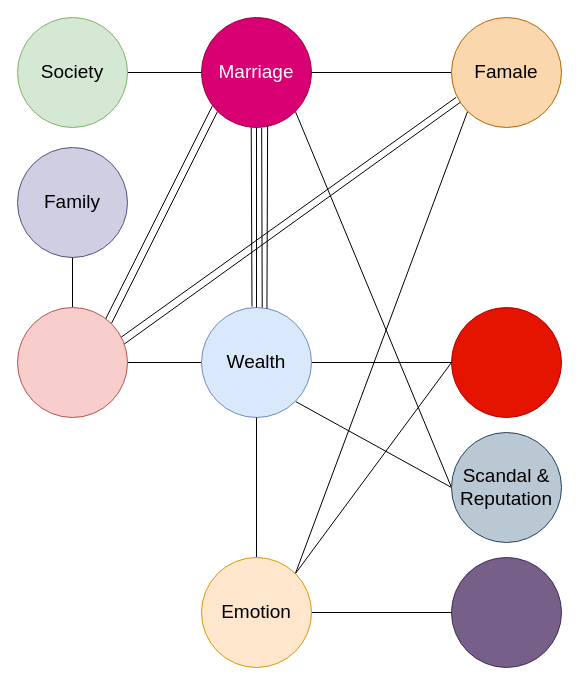
The diagram is 579 pixels wide and 685 high, and some of its shapes have lost their labels. Each missing label, with the centre of its shape:
Duty: the point at 506,612
Love: the point at 506,362
Male: the point at 72,362
